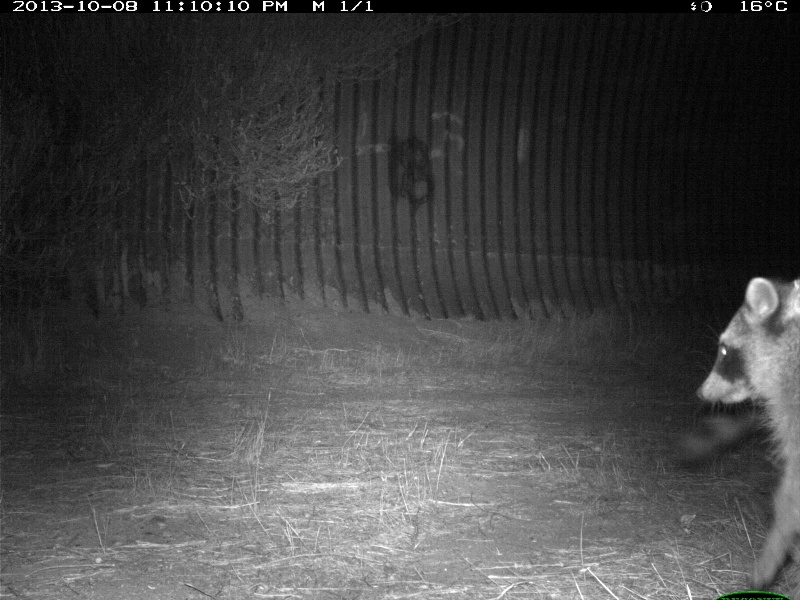raccoon: (697, 260, 800, 589)
